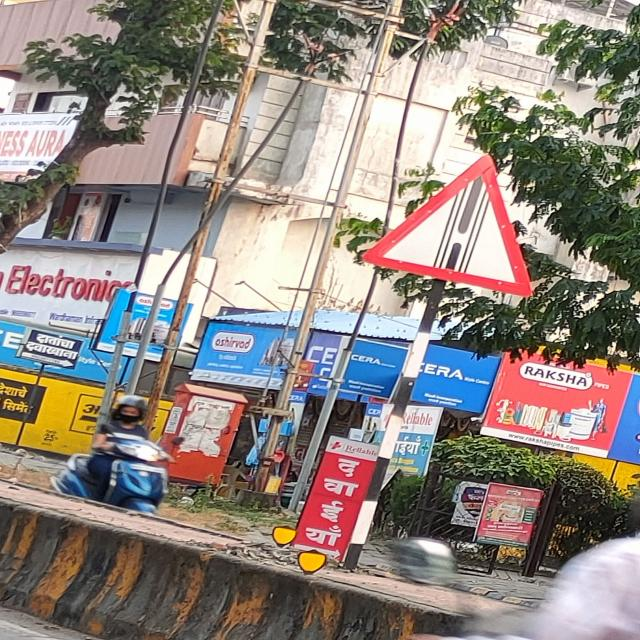GAP_IN_MEDIAN: (361, 154, 538, 296)
